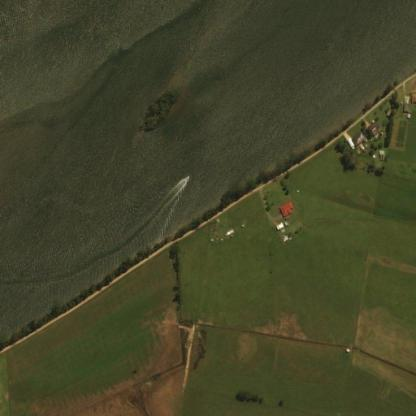ship: (0, 9, 5, 16)
